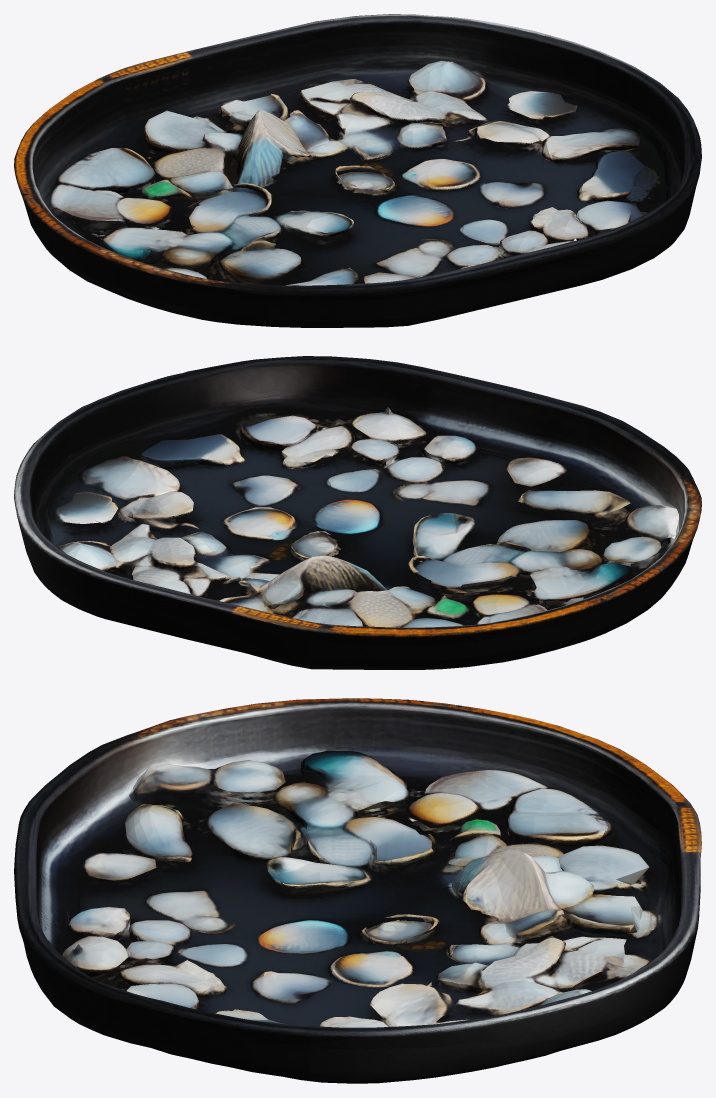
The model's file is shell-inlaid-tray-organic hi-res.jpeg.glb.
The picture shows the model from 3 angles, top to bottom: view 1: azimuth 30°, elevation 25°; view 2: azimuth 150°, elevation 25°; view 3: azimuth 270°, elevation 25°; orthographic projection. The views are drawn at different scales.
Visible parts, largest first — view 1: world; view 2: world; view 3: world.
Part boxes in pixels (left/top/right/bottom): world: left=14, top=14, right=701, bottom=327; world: left=14, top=356, right=701, bottom=669; world: left=14, top=698, right=701, bottom=1083.
Size of the model in its own units: 1 by 0.0844 by 0.8636.
Materials: 1 (1 with a texture image).
